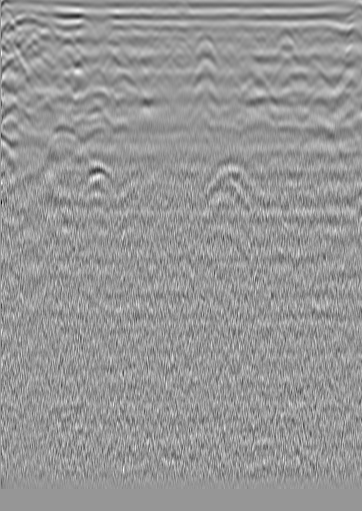가스: (80, 160, 118, 191)
상수: (304, 28, 324, 48)
오수: (25, 28, 45, 48)
우수: (192, 29, 217, 55)
